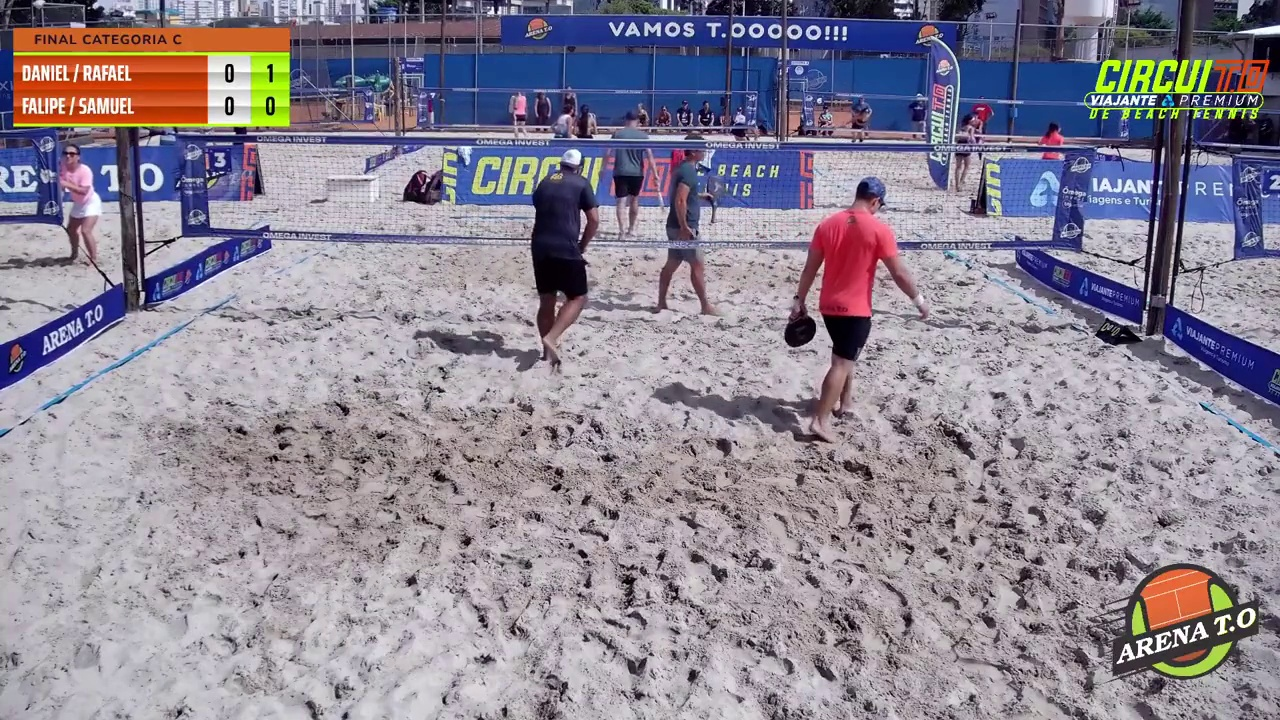court_line: (641, 0, 809, 442)
